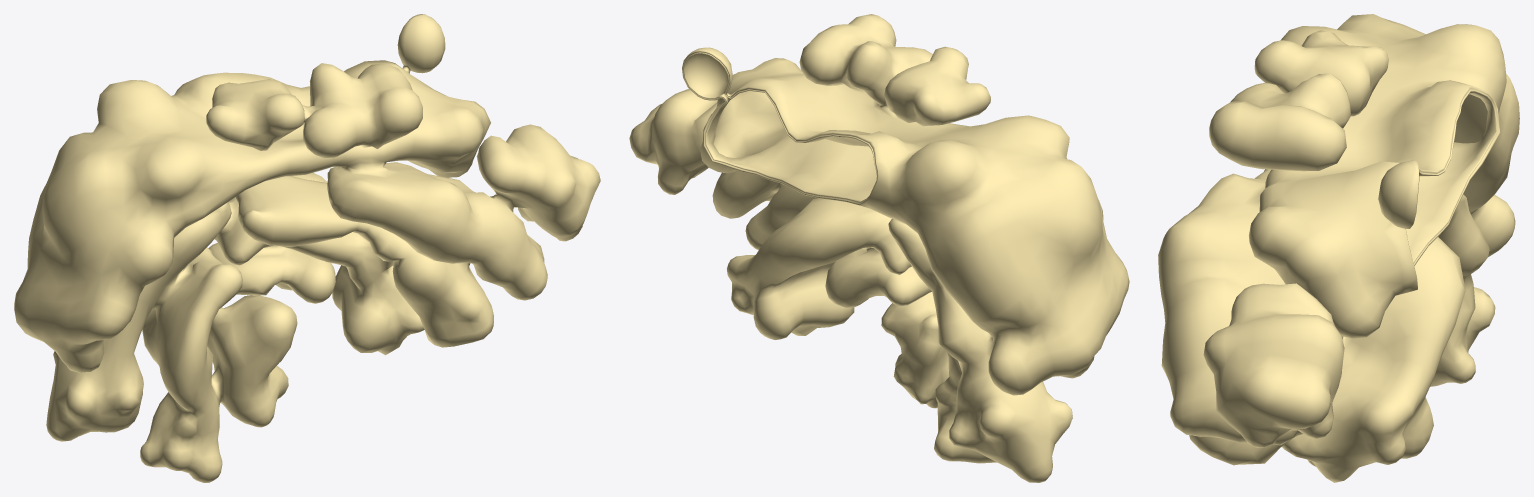
The model's file is golgi_apparatus.fbx.
3 views of the same model, side by side, from view 1: azimuth 30°, elevation 25°; view 2: azimuth 150°, elevation 25°; view 3: azimuth 270°, elevation 25° (orthographic). The views are drawn at different scales.
Parts seen in each view (by area): view 1: Golgi_Apparatus; view 2: Golgi_Apparatus; view 3: Golgi_Apparatus.
Boxes of the visible parts, box(x1,y1,x2,y2) form: Golgi_Apparatus: box(14, 14, 600, 482); Golgi_Apparatus: box(629, 14, 1129, 482); Golgi_Apparatus: box(1158, 14, 1519, 482).
Size of the model in its own units: 1068 by 765 by 541.
